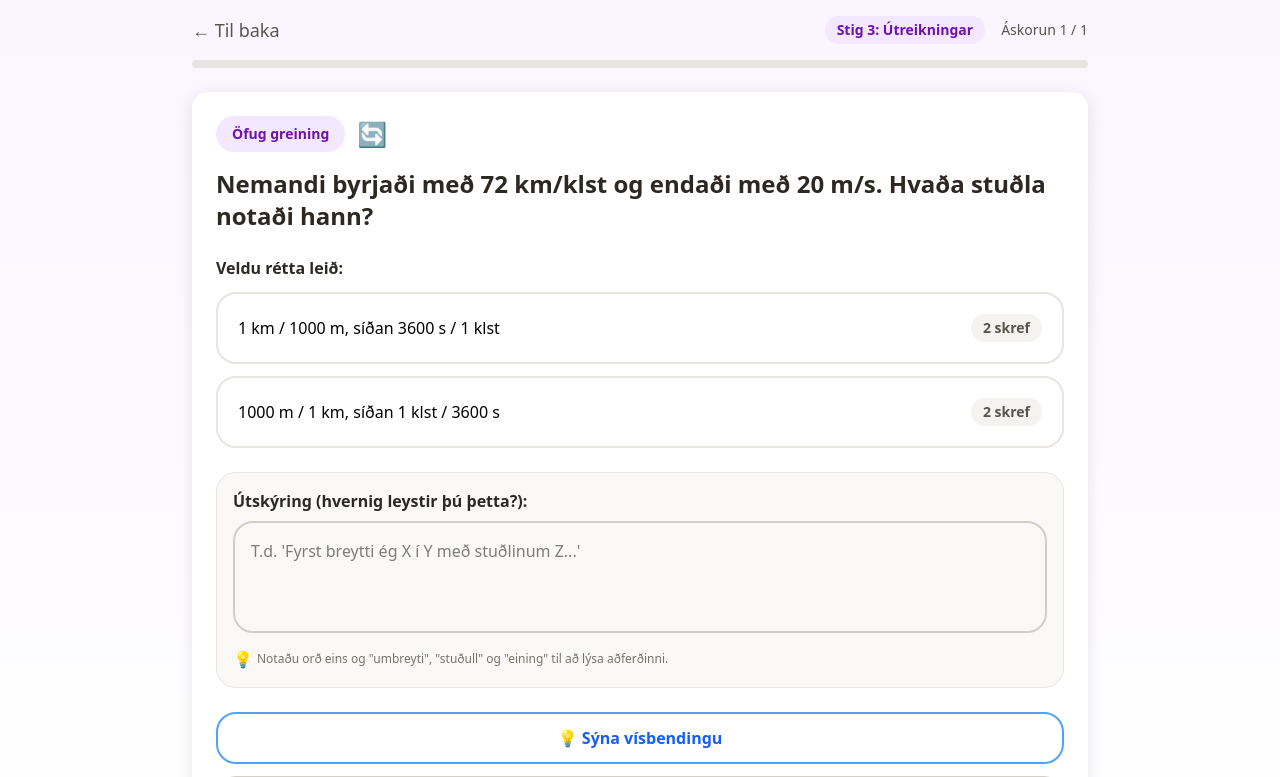
Test: the choices are shuffled, and graded in the order shown › a reverse item: picking the wrong route shown first is wrong
Click the button "1 km / 1000 m, síðan 3600 s / 1 klst 2 skref": (369,328) [216,292,1064,364]
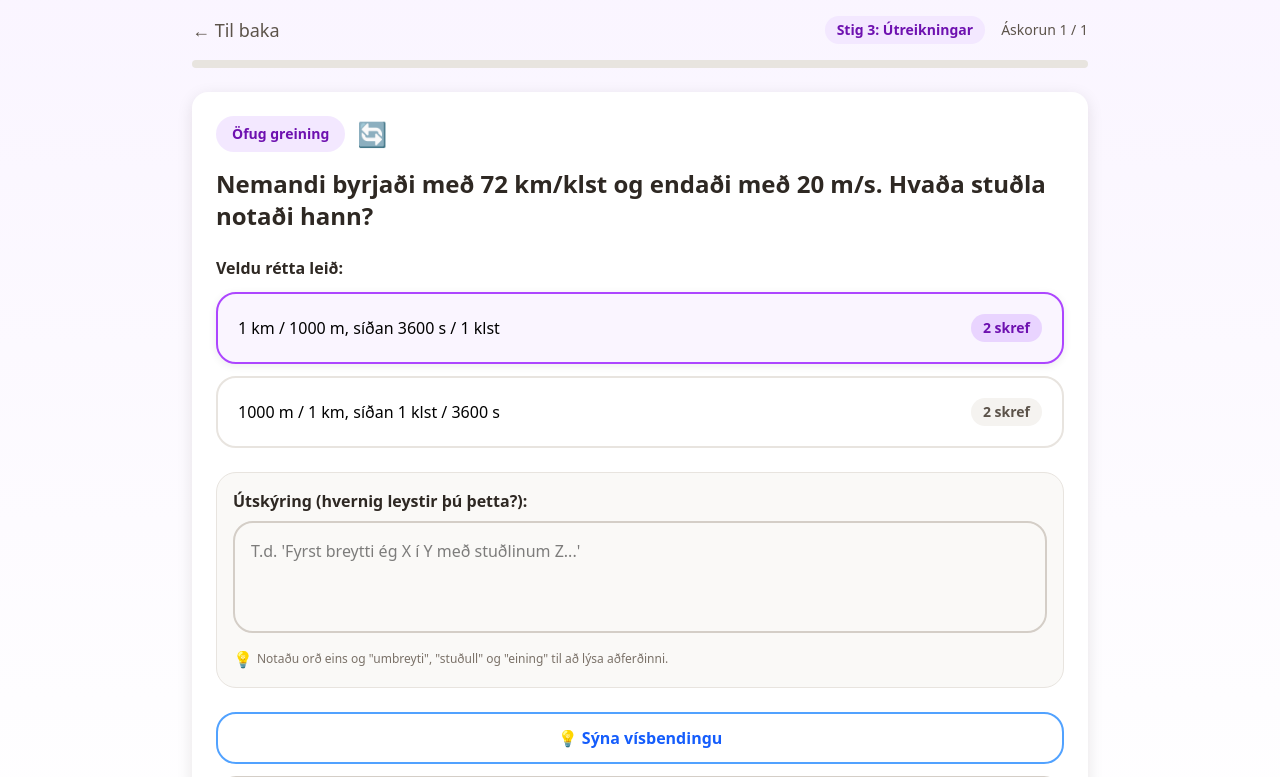
In the text box labelled "Útskýring (hvernig leystir þú þetta?):": (640,577) [233,521,1047,633], type "Ég umbreytti einingunum skref fyrir skref með stuðlum."
(page scrolled)
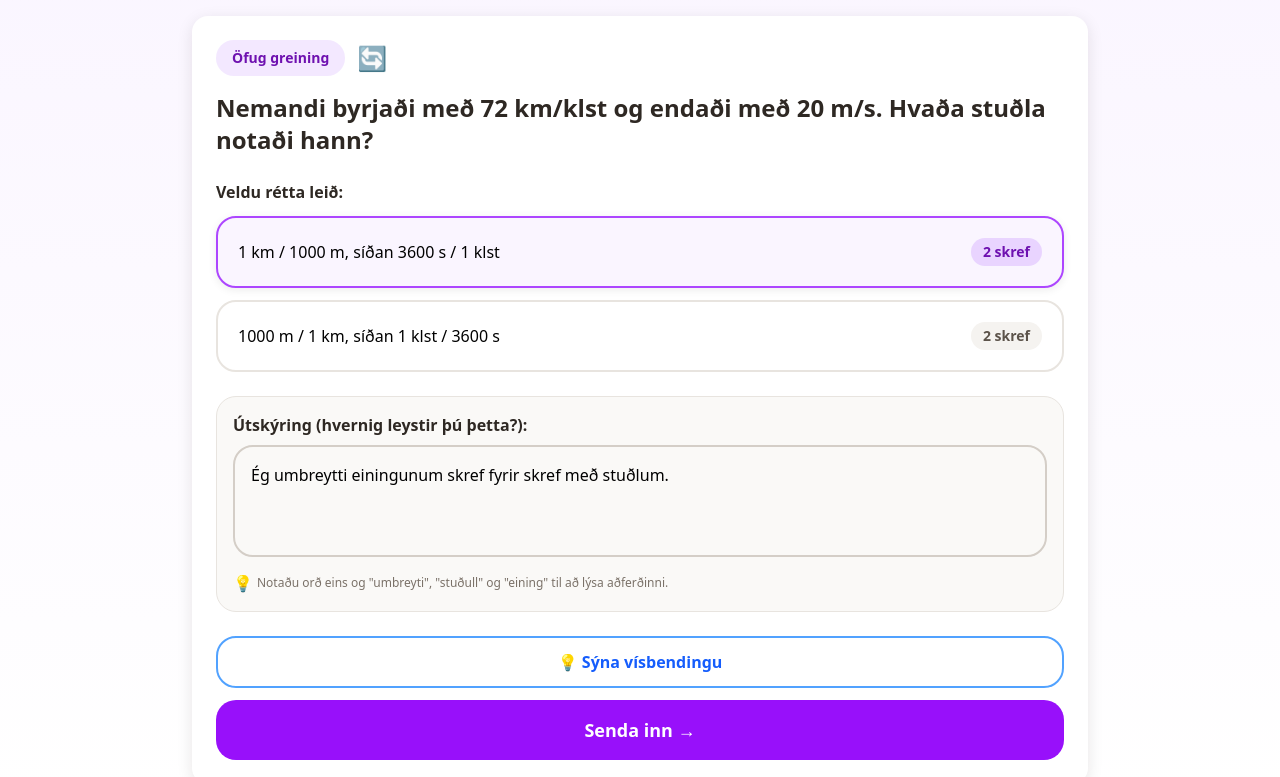
Click the button "Senda inn →": (640,730) [216,700,1064,760]
(page scrolled)
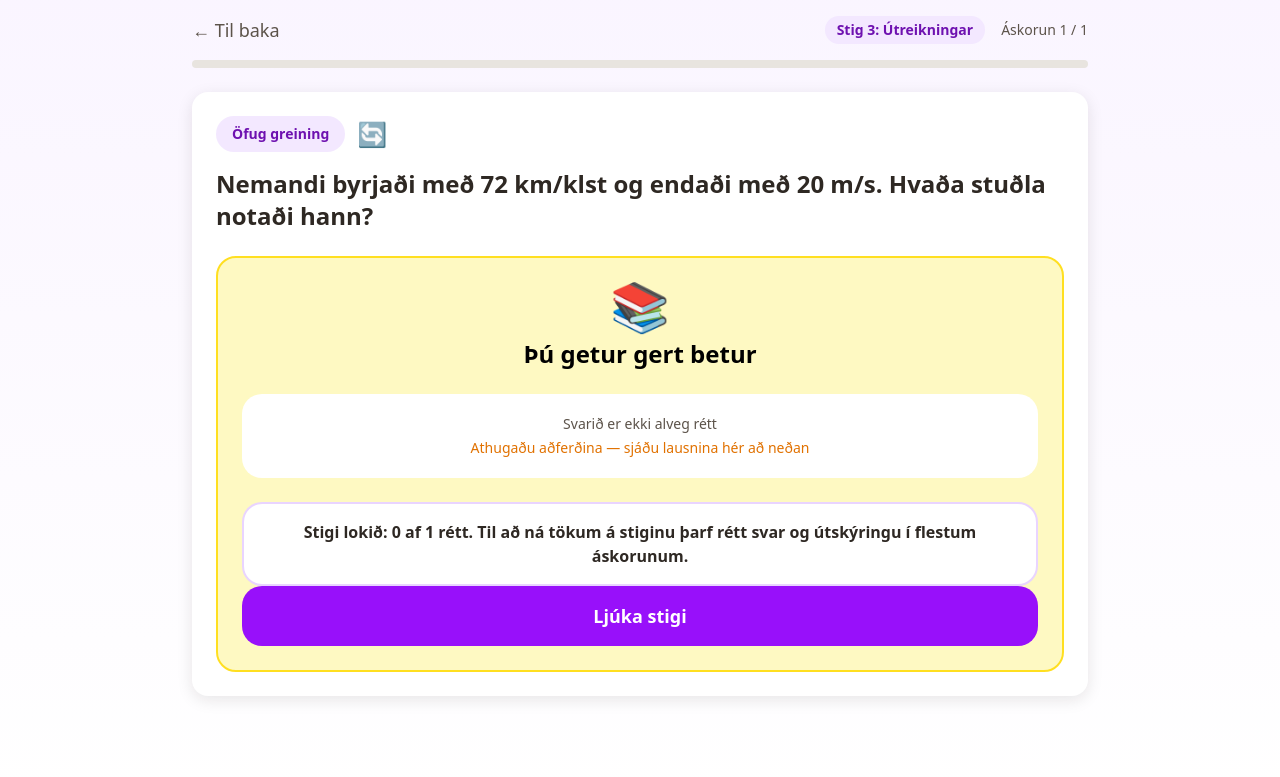
Now the text "Svarið er ekki alveg rétt" is shown, box [563,414,717,433]
